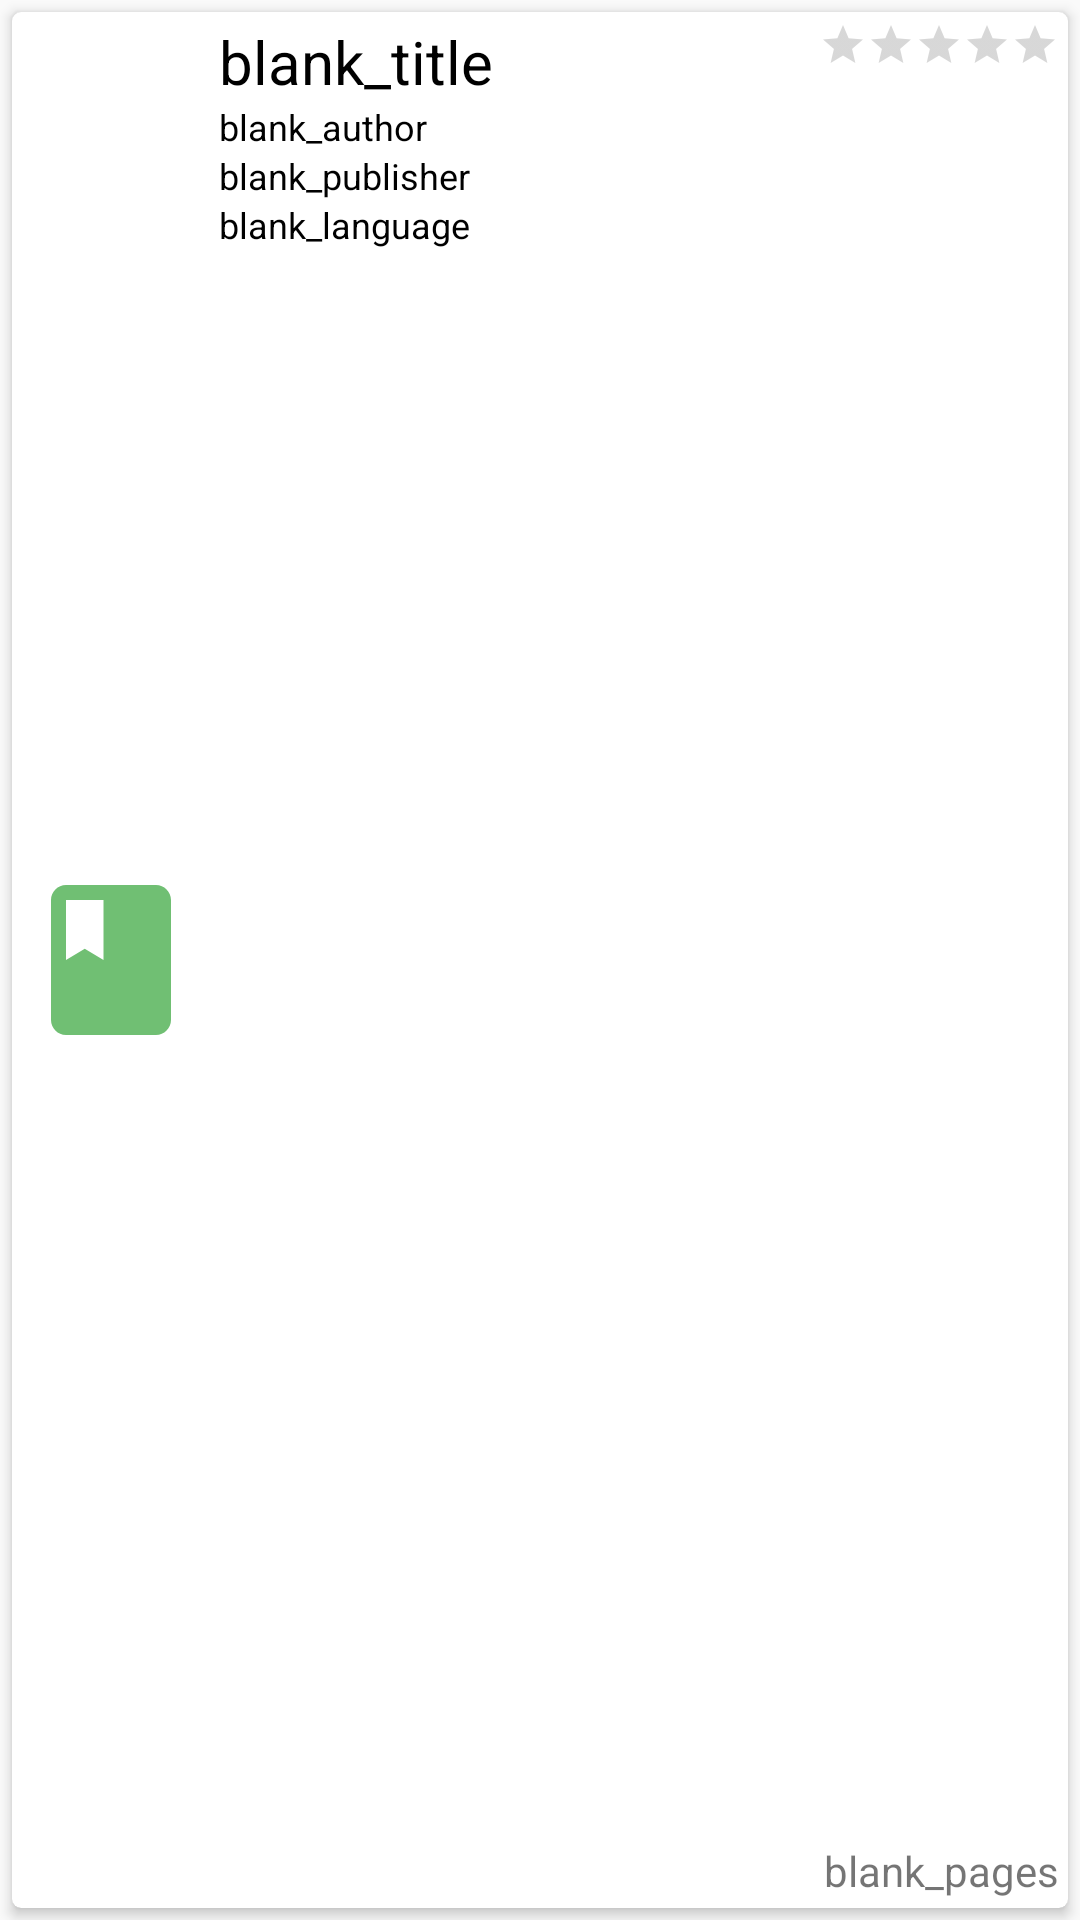

Icons on this 1080w x 1920h Android screen, each with its box as (x1, y1, x2, y2):
book: (51, 885, 171, 1035)
